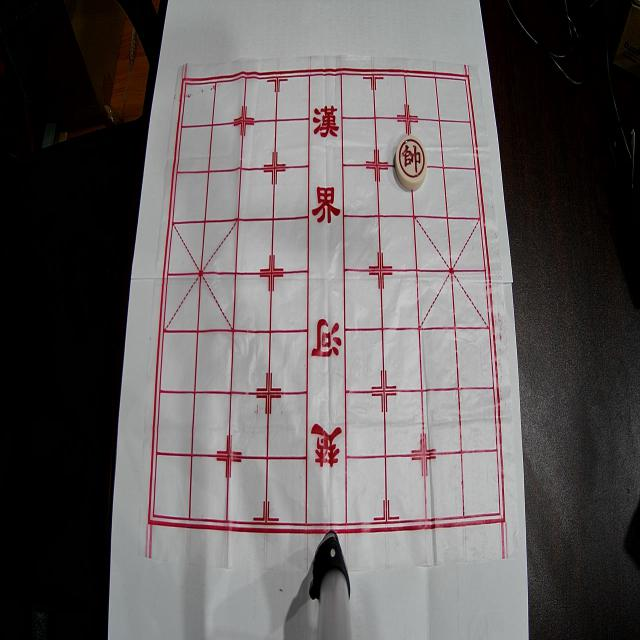red-general: (396, 136, 426, 190)
